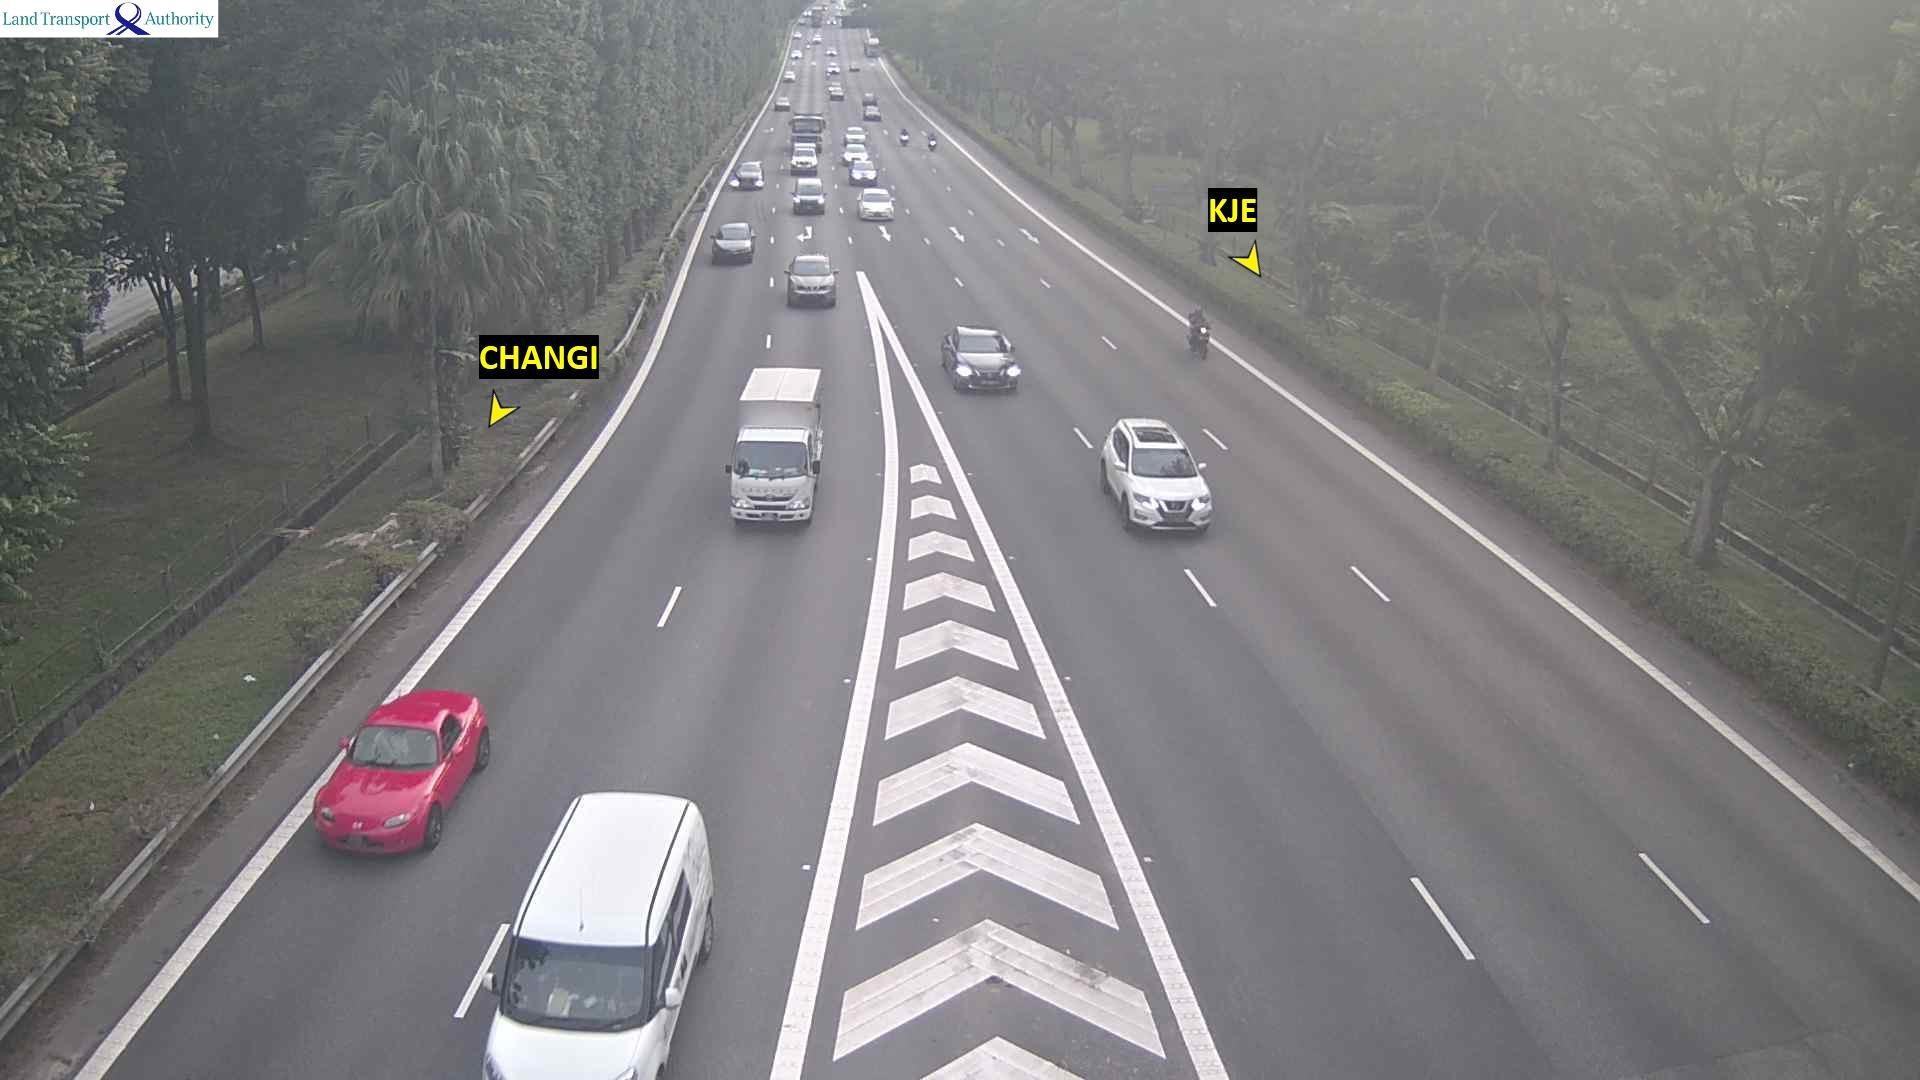incoming: (489, 934, 684, 1080), (319, 730, 462, 862), (723, 429, 822, 527), (1116, 447, 1213, 535), (948, 333, 1018, 395), (787, 261, 838, 306), (710, 228, 757, 266), (792, 182, 828, 216), (858, 191, 897, 222), (788, 114, 827, 141), (733, 165, 762, 192), (849, 159, 880, 183), (789, 149, 819, 173), (1195, 326, 1212, 359), (843, 126, 868, 142), (845, 144, 869, 159)
